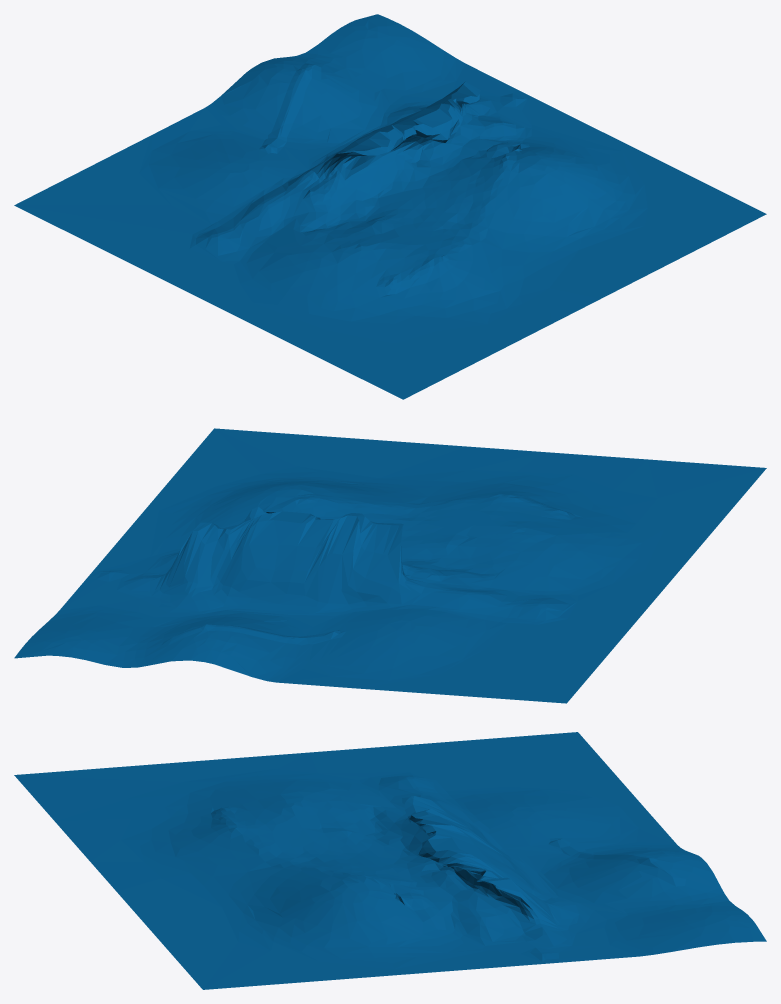
File: Wave.obj
3 renders of one model, top to bottom at view 1: azimuth 30°, elevation 25°; view 2: azimuth 150°, elevation 25°; view 3: azimuth 270°, elevation 25°, orthographic. The views are drawn at different scales.
Visible parts, largest first — view 1: Plane007; view 2: Plane007; view 3: Plane007.
Part boxes in pixels (<box>): Plane007: <box>14,14,766,399</box>; Plane007: <box>14,428,766,703</box>; Plane007: <box>14,732,766,989</box>.
Size of the model in its own units: 3564014 by 370579 by 4396610.
